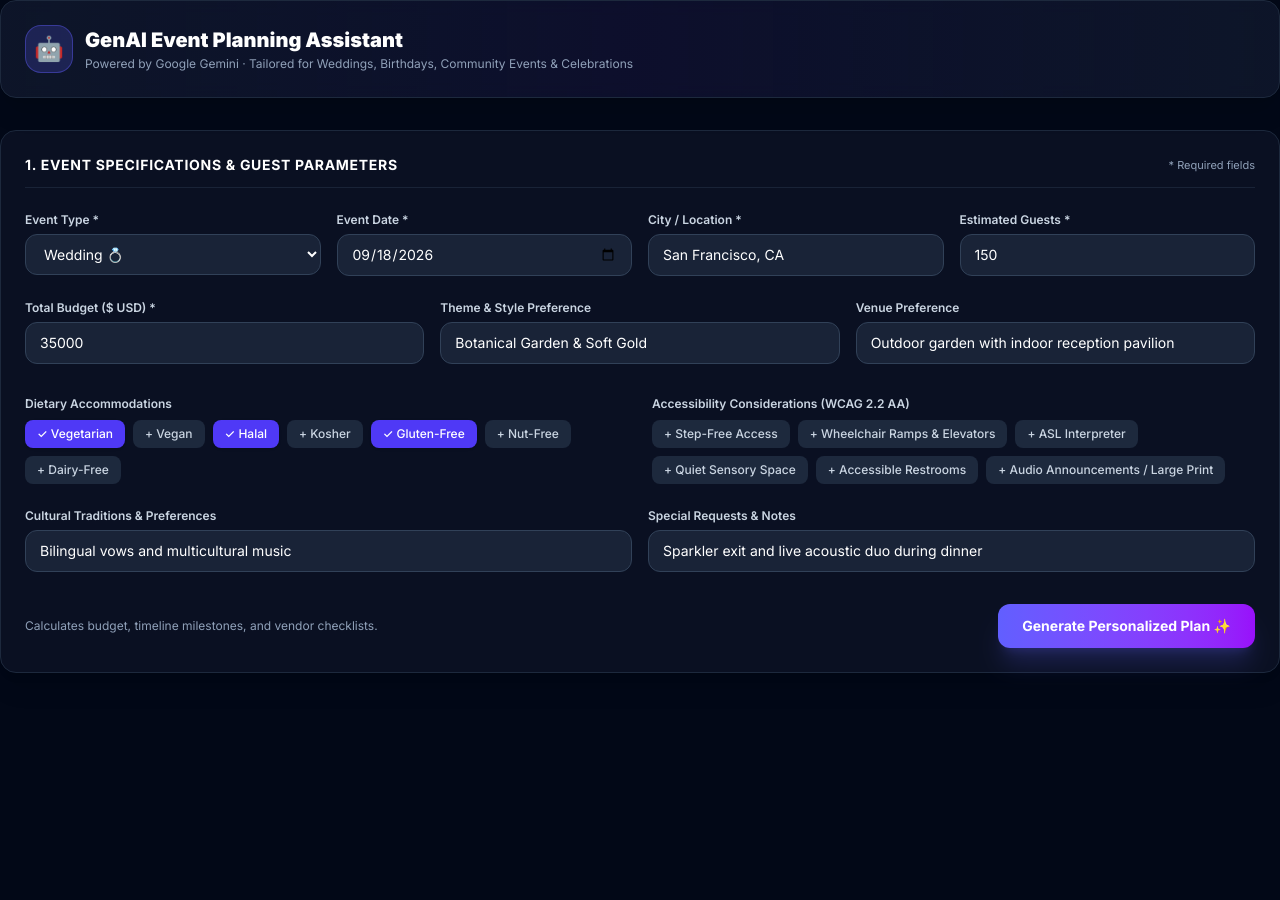
Test case: AIPlanningAssistant — DOM Interactions › updates form inputs and toggles preference chips
Replace the text in the field labelled "City / Location *" with "Denver, CO" at (796, 255), box [648, 234, 944, 276]
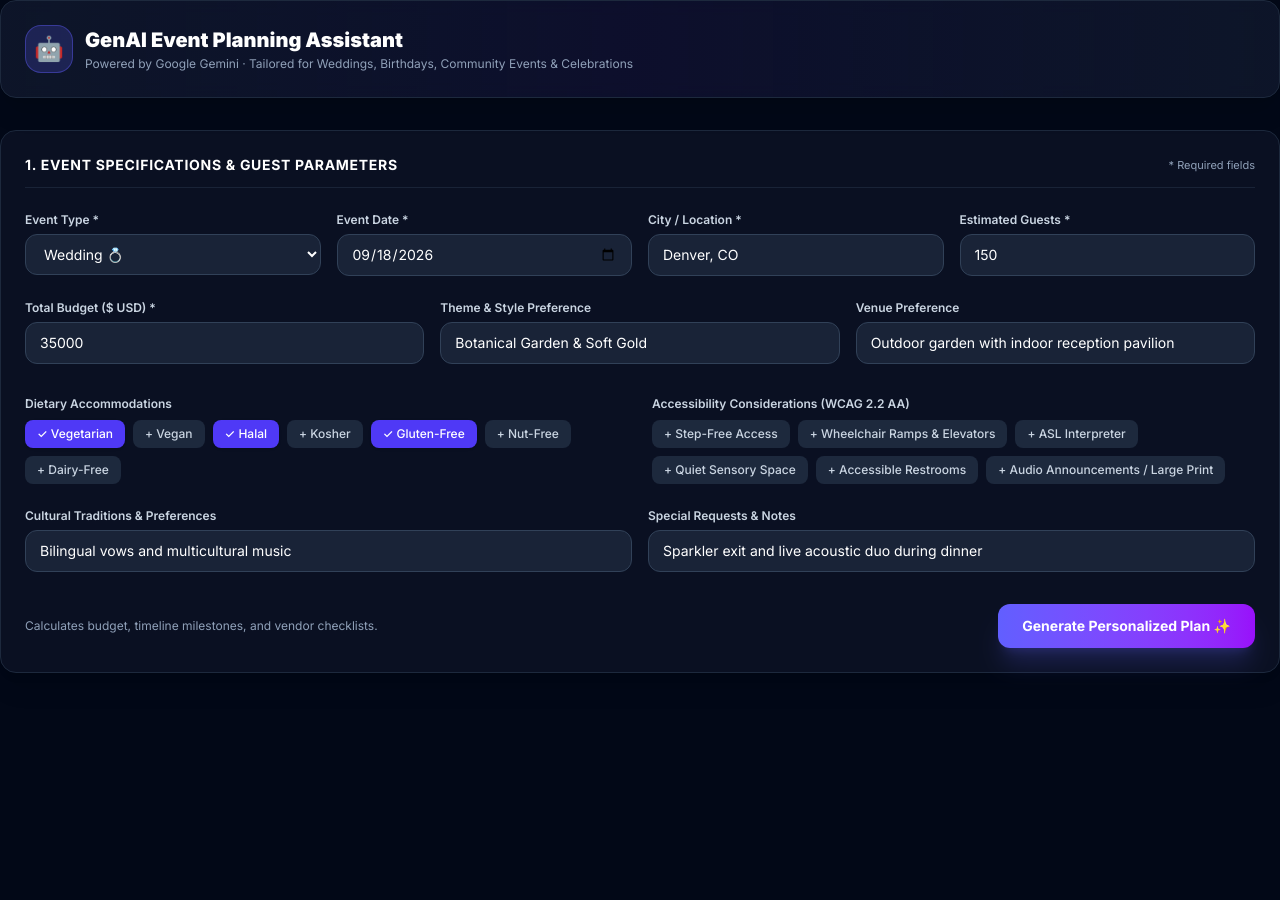
Click the button "+ Vegan" at (169, 434), box [133, 420, 205, 448]
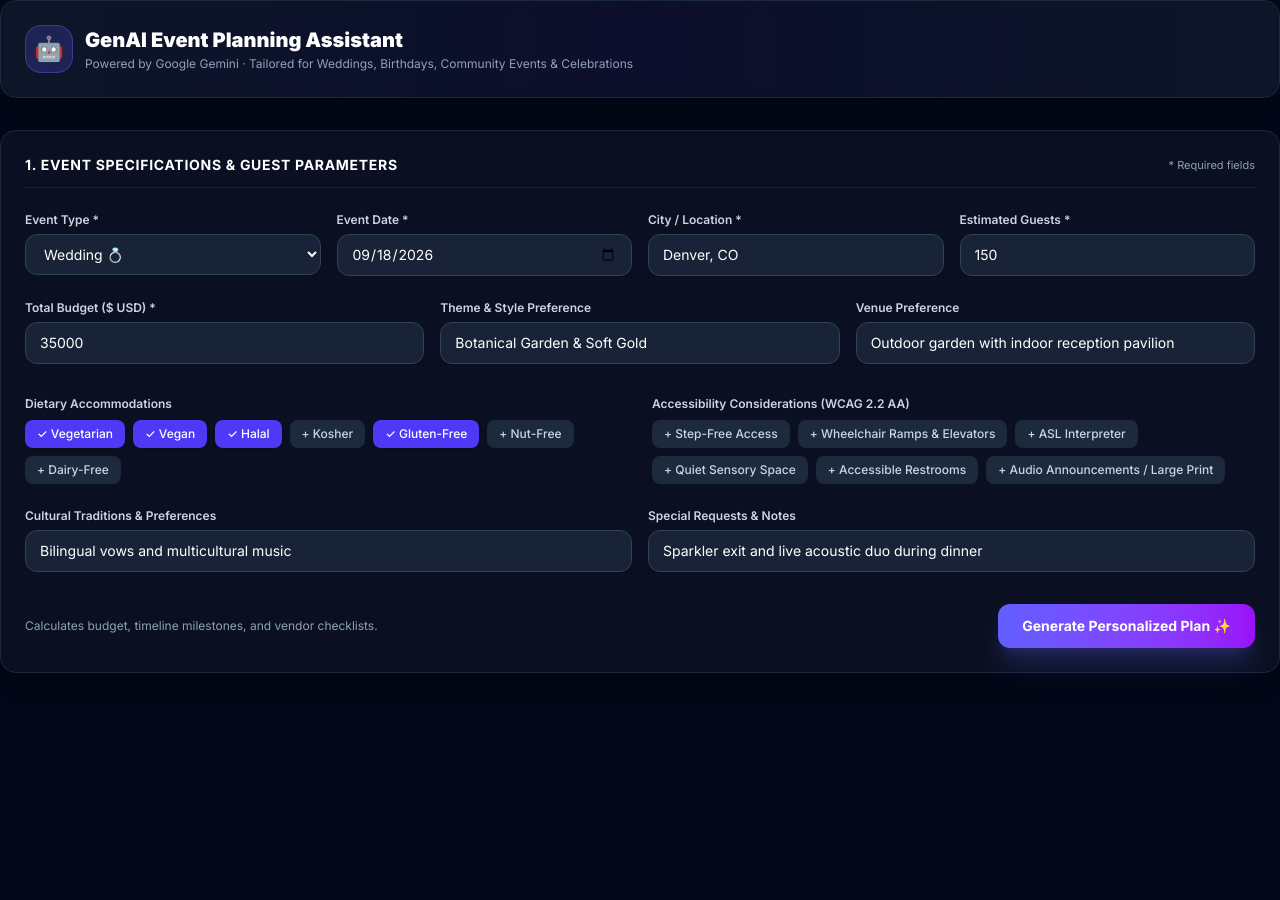
Expected: the button "✓ Vegan" is shown, [133, 420, 207, 448]
